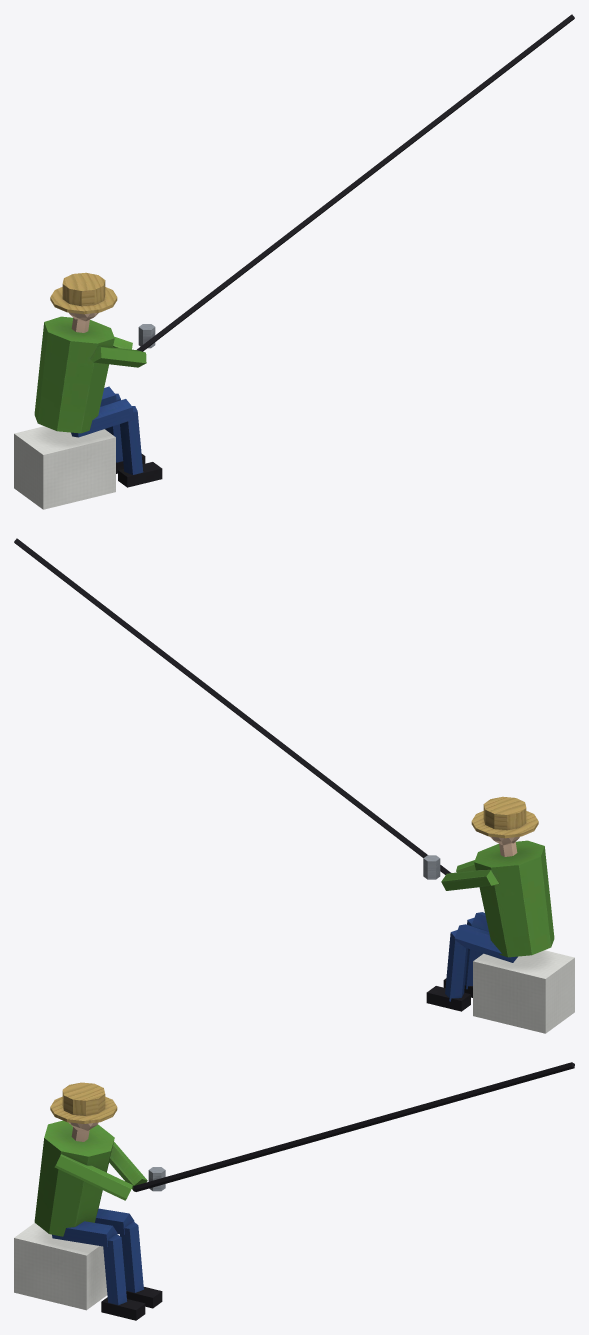
The model's file is fiskare_tex.glb.
3 views of the same model, one above another, from view 1: azimuth 30°, elevation 25°; view 2: azimuth 150°, elevation 25°; view 3: azimuth 330°, elevation 25° (orthographic).
Parts seen in each view (by area): view 1: Kropp, Spo; view 2: Kropp, Spo; view 3: Kropp, Spo.
Part boxes in pixels (x1,y1,x2,y2): Kropp: (14, 272, 162, 509); Spo: (137, 14, 574, 351); Kropp: (426, 796, 574, 1033); Spo: (14, 538, 450, 879); Kropp: (14, 1082, 162, 1320); Spo: (133, 1062, 574, 1191).
Size of the model in its own units: 3.76 by 2.32 by 0.5367.
7 materials, 7 textured.
